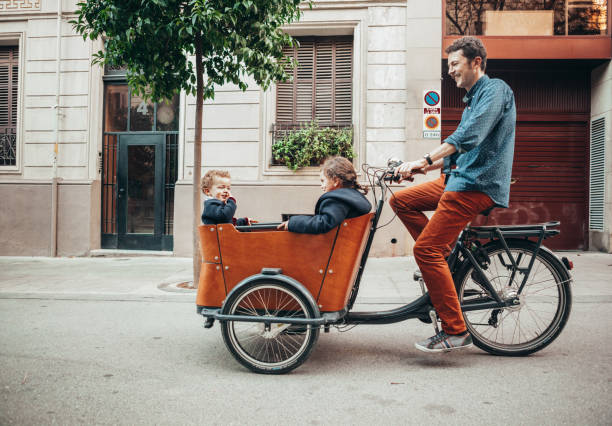without mask: (441, 44, 475, 84), (201, 171, 234, 204), (313, 162, 346, 195)
